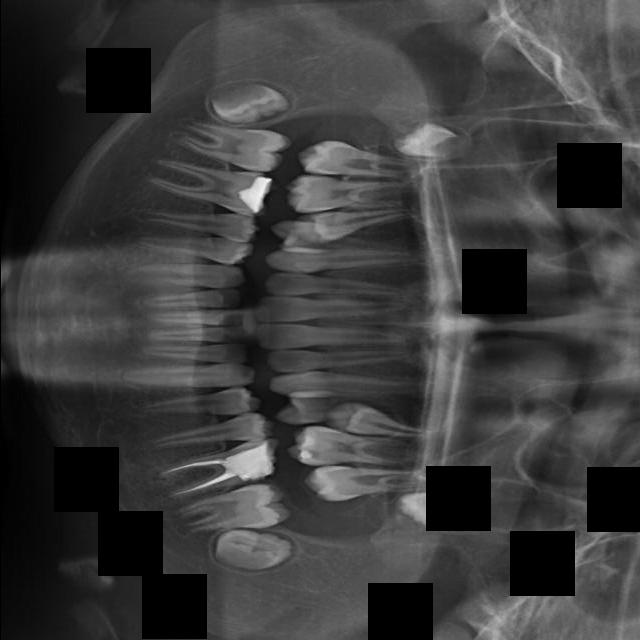3M ESPE Implant: (392, 121, 466, 158)
AGS Medikal Implant: (166, 478, 294, 544)
AMerOss Implant: (154, 436, 286, 503)
Amalgam filling: (297, 139, 421, 180)
Anthogyr Implant: (143, 410, 278, 460)
Bicon Implant: (130, 384, 263, 427)
BioHorizons Implant: (121, 364, 259, 388)
BioLife Implant: (138, 341, 248, 363)
Biomet 3i Implant: (137, 325, 245, 346)
Blue Sky Bio Implant: (144, 309, 246, 327)
Camlog Implant: (139, 289, 244, 308)
Caries: (266, 349, 412, 374)
Composite filling: (119, 262, 248, 288)
Cowellmedi Implant: (131, 224, 255, 268)
Crown: (138, 200, 262, 242)
DENTSPLY Implant: (284, 170, 423, 214)
Dentatus Implant: (143, 153, 277, 218)
Dentis Implant: (167, 116, 292, 175)
Dentium Implant: (206, 72, 293, 133)
Euroteknika Implant: (294, 205, 419, 238)
Filling: (267, 218, 401, 256)
Frontier Implant: (266, 249, 426, 275)
Hiossen Implant: (267, 371, 429, 398)
Implant: (253, 293, 413, 323)
Implant Direct: (263, 272, 412, 296)
Keystone Dental Implant: (255, 323, 405, 349)
MIS Implant: (273, 396, 410, 426)
Mandible: (376, 436, 377, 436)
Maxilla: (285, 424, 426, 475)
Megagen Implant: (302, 457, 442, 504)
Neodent Implant: (390, 484, 470, 533)
Neoss Implant: (212, 526, 294, 576)
